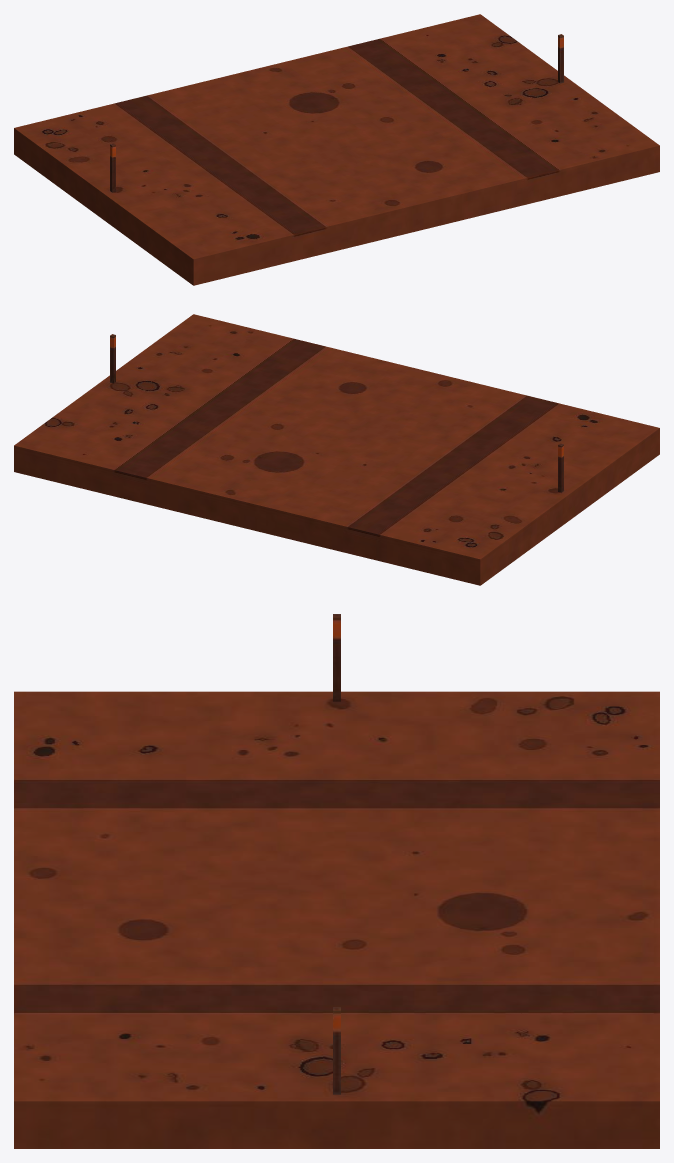
File: road_straight.glb
The picture shows the model from 3 angles, top to bottom: view 1: azimuth 30°, elevation 25°; view 2: azimuth 150°, elevation 25°; view 3: azimuth 270°, elevation 25°; orthographic projection. The views are drawn at different scales.
Parts seen in each view (by area): view 1: road_straight; view 2: road_straight; view 3: road_straight.
Part boxes in pixels (bbox=[...]): road_straight: bbox=[14, 14, 659, 285]; road_straight: bbox=[14, 314, 659, 585]; road_straight: bbox=[14, 614, 659, 1148].
Bounding box in the file's own units: 6 × 0.9 × 4.
1 material, 1 textured.
